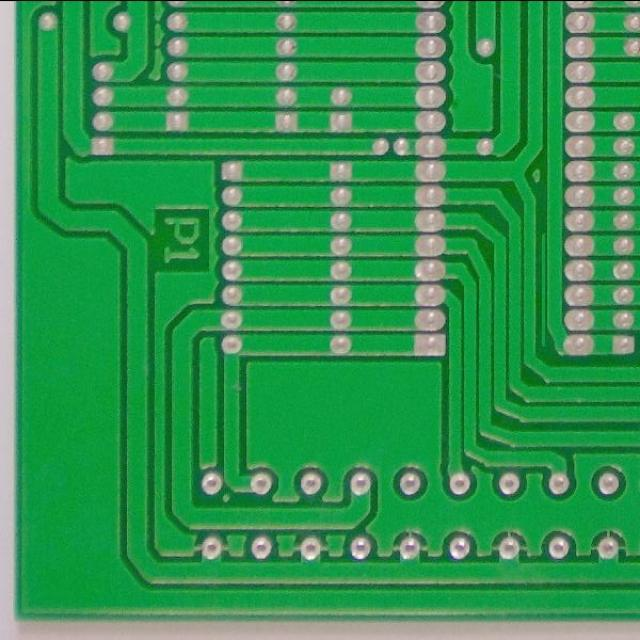Spurious_Cooper: (539, 229, 548, 351)
